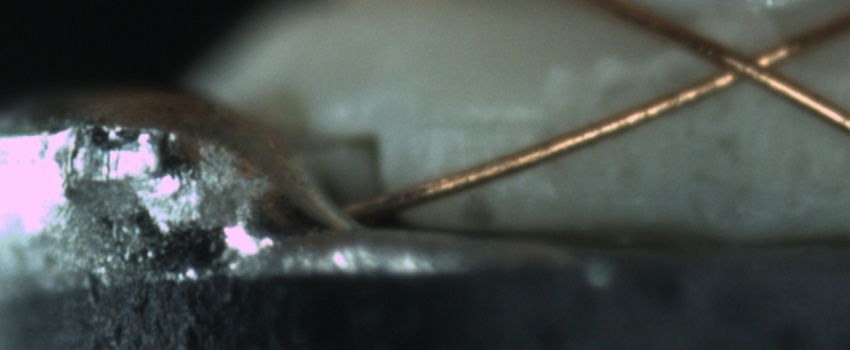CL: (678, 27, 811, 99)
DL: (425, 94, 551, 150)
